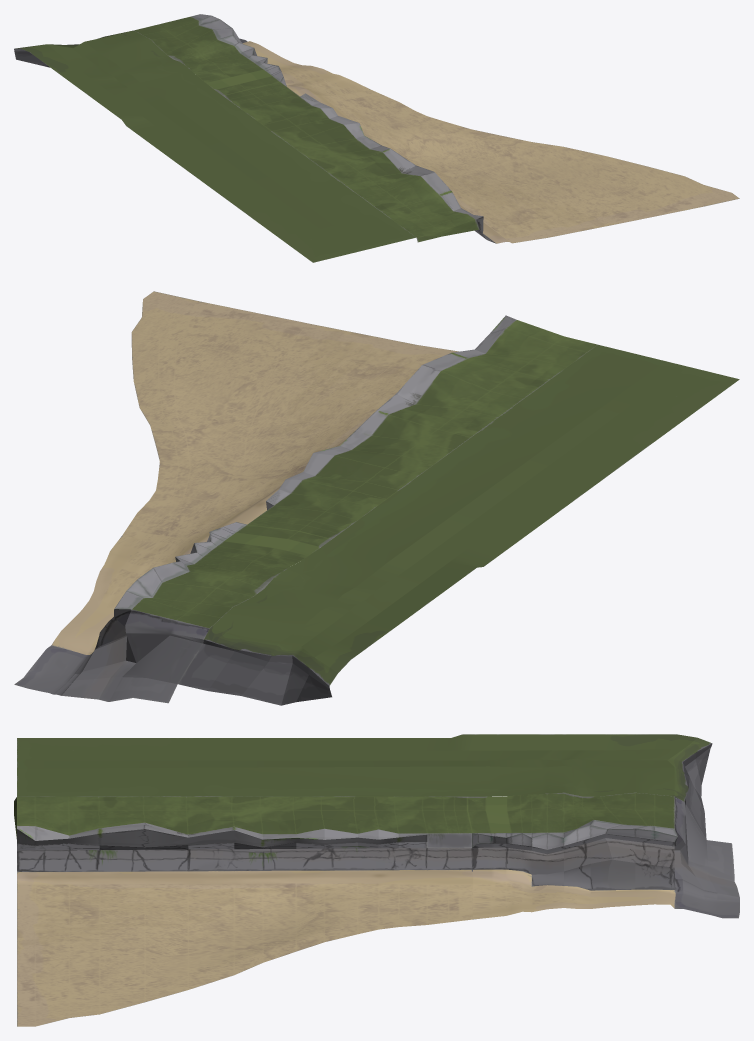
Rendered from BeachAndTerrain.fbx.
3 views of the same model, one above another, from view 1: azimuth 30°, elevation 25°; view 2: azimuth 150°, elevation 25°; view 3: azimuth 270°, elevation 25° (orthographic). The views are drawn at different scales.
Parts seen in each view (by area): view 1: BeachArea, terrain; view 2: BeachArea, terrain; view 3: BeachArea, terrain.
Part boxes in pixels (bbox=[...]): BeachArea: bbox=[134, 14, 739, 243]; terrain: bbox=[14, 30, 415, 262]; BeachArea: bbox=[14, 291, 597, 703]; terrain: bbox=[178, 344, 739, 705]; BeachArea: bbox=[14, 792, 739, 1026]; terrain: bbox=[17, 734, 712, 839].
Bounding box in the file's own units: 3888 × 490 × 4924.
